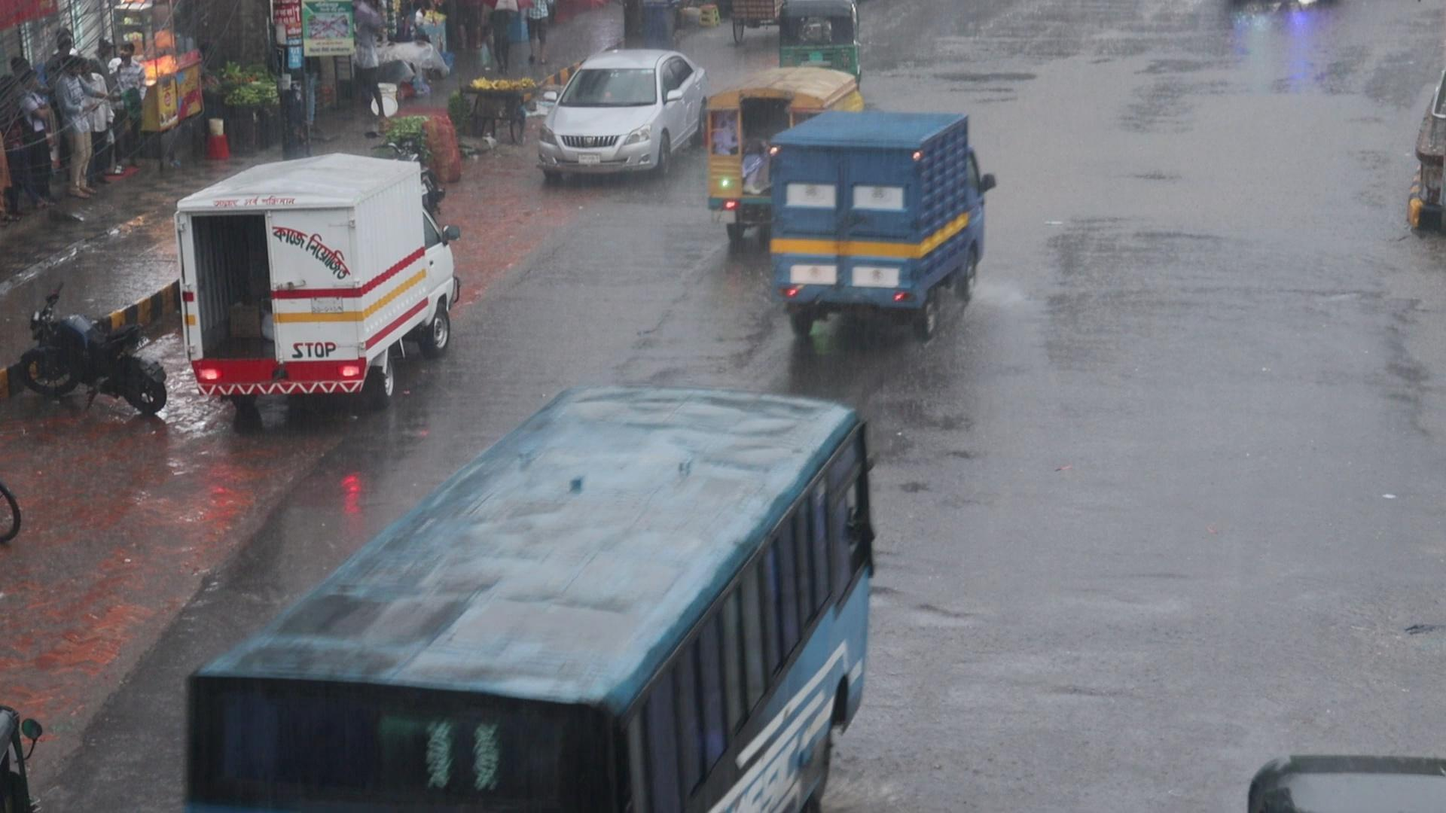Bus: (175, 372, 878, 813)
Truck: (764, 103, 997, 343)
